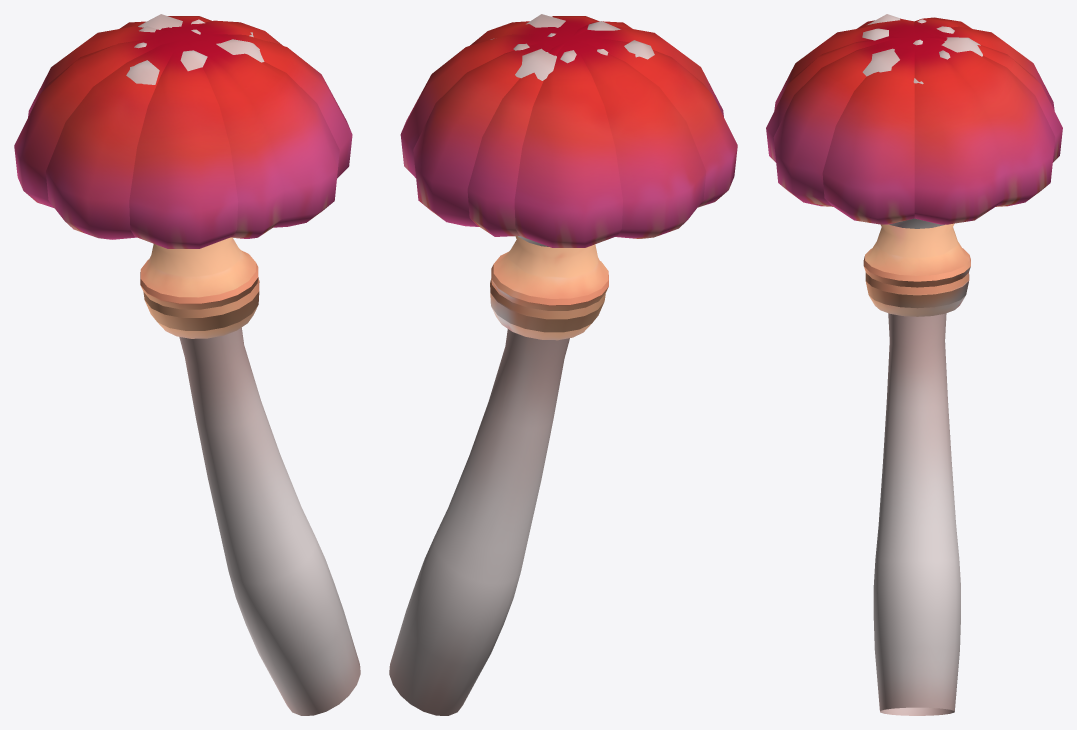
File: Long_mushroom_5.fbx
The picture shows the model from 3 angles, left to right: view 1: azimuth 30°, elevation 25°; view 2: azimuth 150°, elevation 25°; view 3: azimuth 270°, elevation 25°; orthographic projection. The views are drawn at different scales.
Parts seen in each view (by area): view 1: Object010, Object023, Cylinder011; view 2: Object010, Object023, Cylinder011; view 3: Object010, Object023, Cylinder011.
Boxes of the visible parts, x1=… form: Object010: x1=14, y1=16, x2=352, y2=248; Object023: x1=140, y1=237, x2=360, y2=715; Cylinder011: x1=126, y1=14, x2=264, y2=84; Object010: x1=400, y1=16, x2=737, y2=247; Object023: x1=389, y1=236, x2=608, y2=715; Cylinder011: x1=490, y1=14, x2=654, y2=80; Object010: x1=766, y1=17, x2=1062, y2=224; Object023: x1=863, y1=218, x2=970, y2=715; Cylinder011: x1=862, y1=14, x2=982, y2=84.
Bounding box in the file's own units: 2.15 × 4.59 × 1.95.
